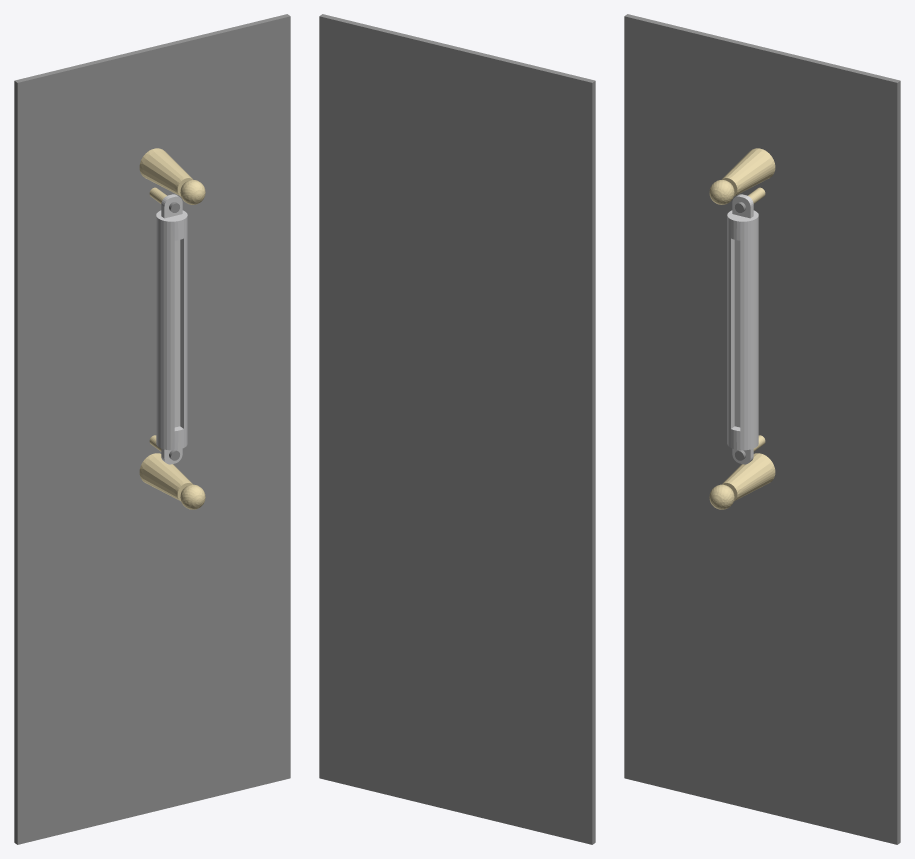
File: heater.gltf
The picture shows the model from 3 angles, left to right: view 1: azimuth 30°, elevation 25°; view 2: azimuth 150°, elevation 25°; view 3: azimuth 330°, elevation 25°; orthographic projection.
Visible parts, largest first — view 1: b_heater_base_001_, b_heater_tube_001_, b_heater_rod_support_001_, b_heater_rod_support_001_001; view 2: b_heater_base_001_; view 3: b_heater_base_001_, b_heater_tube_001_, b_heater_rod_support_001_, b_heater_rod_support_001_001.
Part boxes in pixels (x1=…): b_heater_base_001_: x1=14, y1=14, x2=290, y2=844; b_heater_tube_001_: x1=156, y1=194, x2=187, y2=464; b_heater_rod_support_001_: x1=139, y1=148, x2=205, y2=204; b_heater_rod_support_001_001: x1=139, y1=453, x2=205, y2=509; b_heater_base_001_: x1=319, y1=14, x2=595, y2=844; b_heater_base_001_: x1=624, y1=14, x2=900, y2=844; b_heater_tube_001_: x1=727, y1=194, x2=758, y2=464; b_heater_rod_support_001_: x1=709, y1=148, x2=775, y2=204; b_heater_rod_support_001_001: x1=709, y1=453, x2=775, y2=509.
Bounding box in the file's own units: 150 × 400 × 46.
